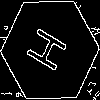H: (25, 25, 76, 79)
